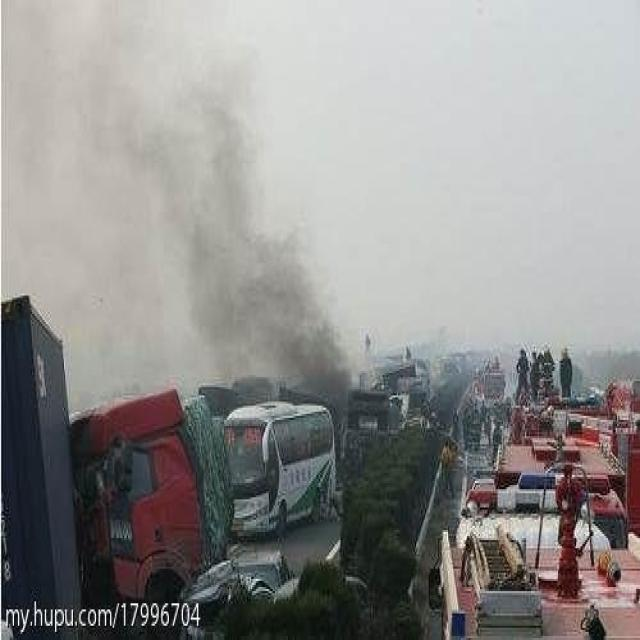Smoke: (113, 32, 354, 398)
